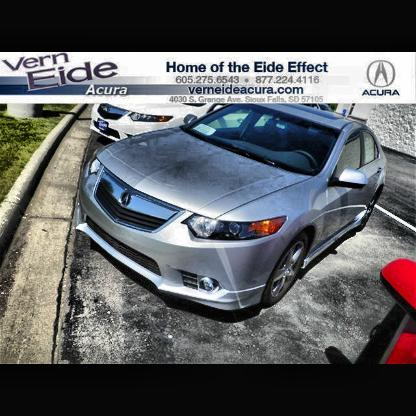Acura TSX Sedan 2012: (78, 104, 390, 325)
